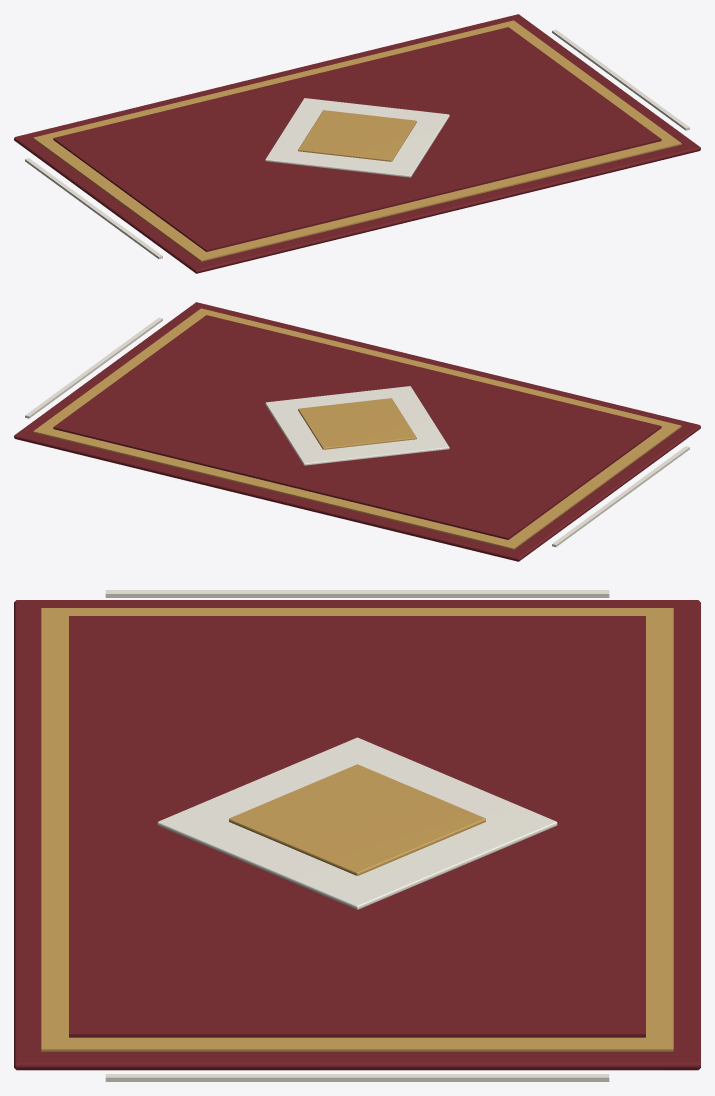
The model's file is cafe_rug.glb.
3 renders of one model, top to bottom at view 1: azimuth 30°, elevation 25°; view 2: azimuth 150°, elevation 25°; view 3: azimuth 270°, elevation 25°, orthographic. The views are drawn at different scales.
Visible parts, largest first — view 1: cafe_rug; view 2: cafe_rug; view 3: cafe_rug.
Boxes of the visible parts, left/top/right/bottom form: cafe_rug: left=14, top=14, right=700, bottom=273; cafe_rug: left=14, top=302, right=700, bottom=561; cafe_rug: left=14, top=590, right=700, bottom=1081.
Size of the model in its own units: 2.52 by 0.051 by 1.5.
